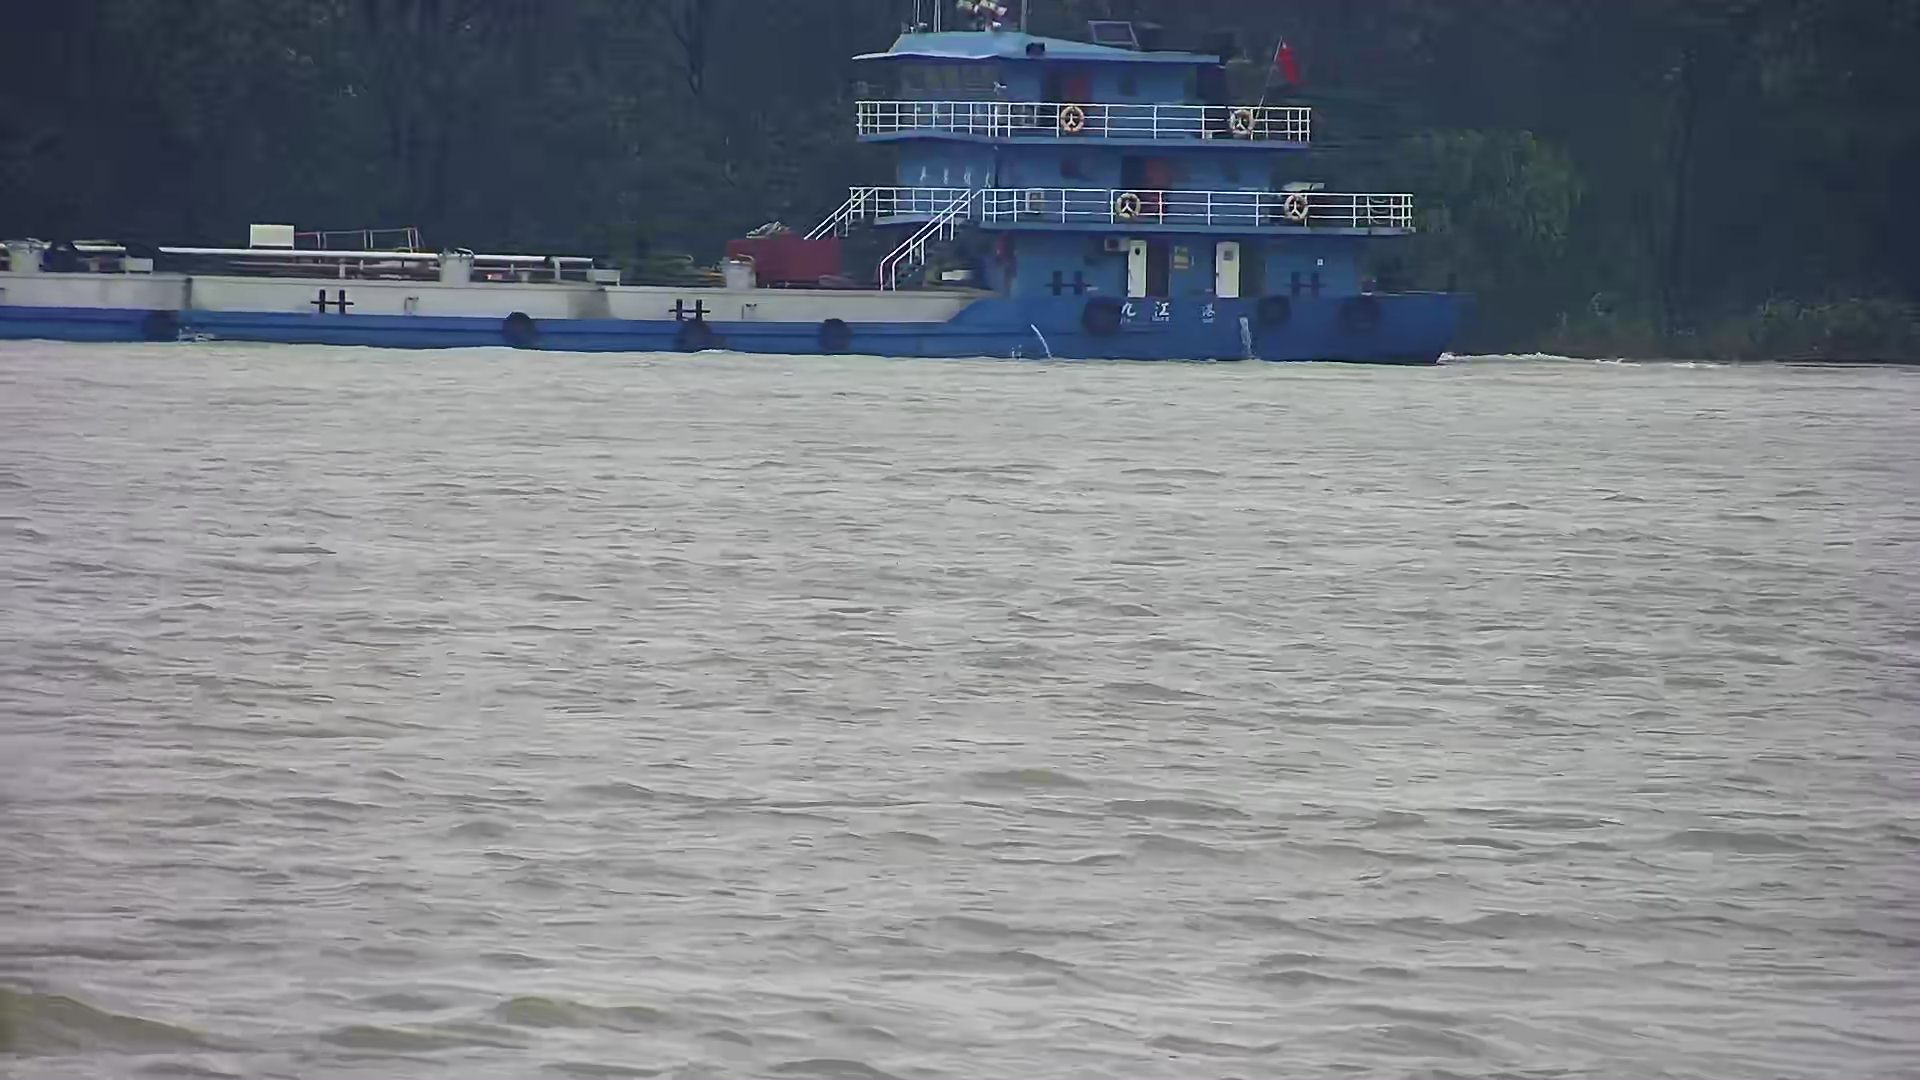ship: (3, 4, 1477, 373)
